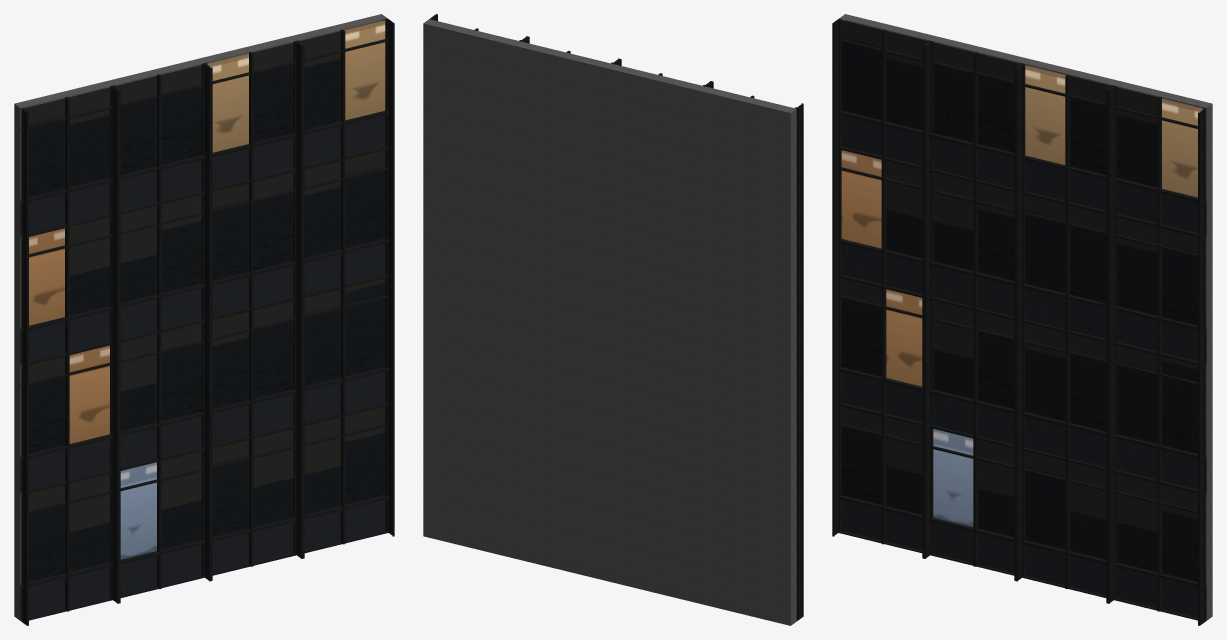
File: SM_OfficeFacade.glb
3 views of the same model, side by side, from view 1: azimuth 30°, elevation 25°; view 2: azimuth 150°, elevation 25°; view 3: azimuth 330°, elevation 25° (orthographic).
Visible parts, largest first — view 1: SM_OfficeFacade; view 2: SM_OfficeFacade; view 3: SM_OfficeFacade.
Boxes of the visible parts, box(x1,y1,x2,y2) form: SM_OfficeFacade: box(14, 14, 394, 625); SM_OfficeFacade: box(423, 14, 803, 625); SM_OfficeFacade: box(832, 14, 1212, 625).
Size of the model in its own units: 12 by 16 by 0.735.
Materials: 2 (2 with a texture image).
